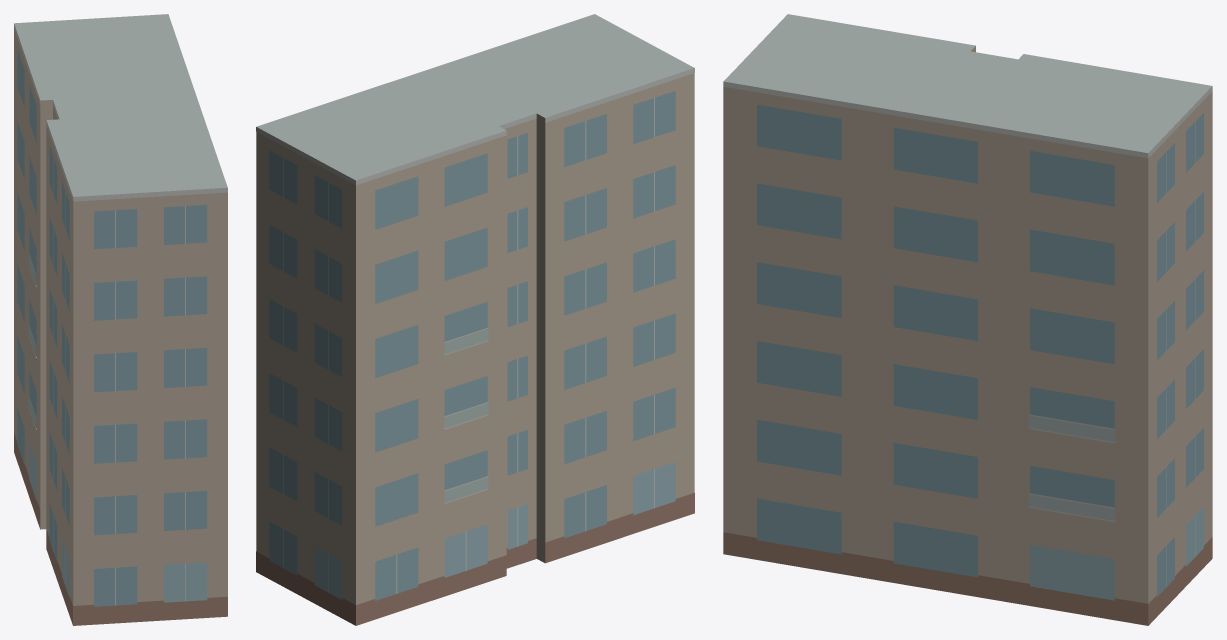
Rendered from survey-upis-32653926.glb.
The picture shows the model from 3 angles, left to right: view 1: azimuth 30°, elevation 25°; view 2: azimuth 150°, elevation 25°; view 3: azimuth 270°, elevation 25°; orthographic projection. The views are drawn at different scales.
Visible parts, largest first — view 1: survey-upis-32653926.tmp; view 2: survey-upis-32653926.tmp; view 3: survey-upis-32653926.tmp.
Part boxes in pixels (x1,y1,x2,y2): survey-upis-32653926.tmp: [14, 14, 227, 625]; survey-upis-32653926.tmp: [256, 14, 694, 625]; survey-upis-32653926.tmp: [723, 14, 1212, 625].
Bounding box in the file's own units: 14.06 × 22.25 × 20.88.
